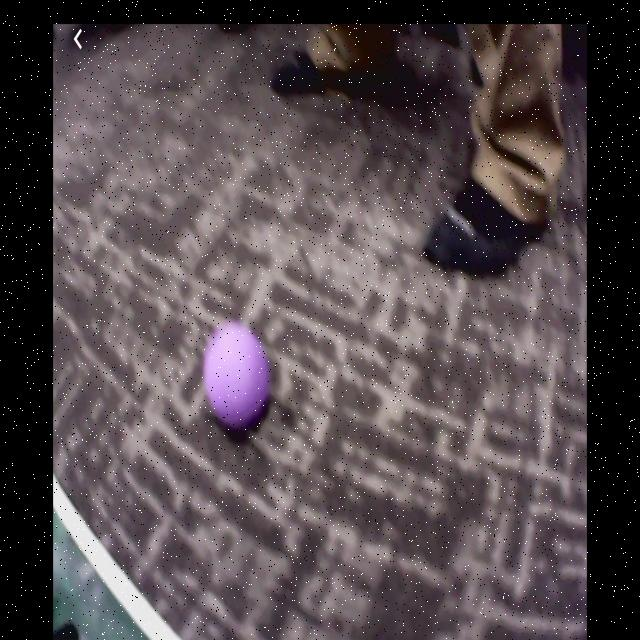ball: (206, 325, 268, 425)
